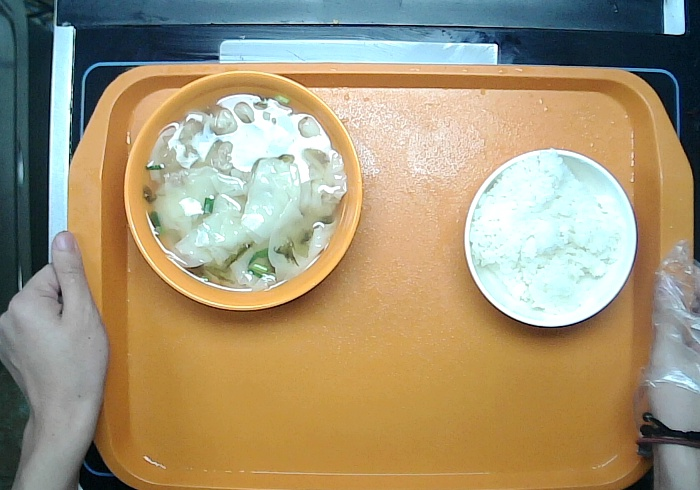NLDX-Fan_Wan: (460, 142, 644, 336)
NLDX-Hun_Tun_Wan: (122, 68, 366, 313)
